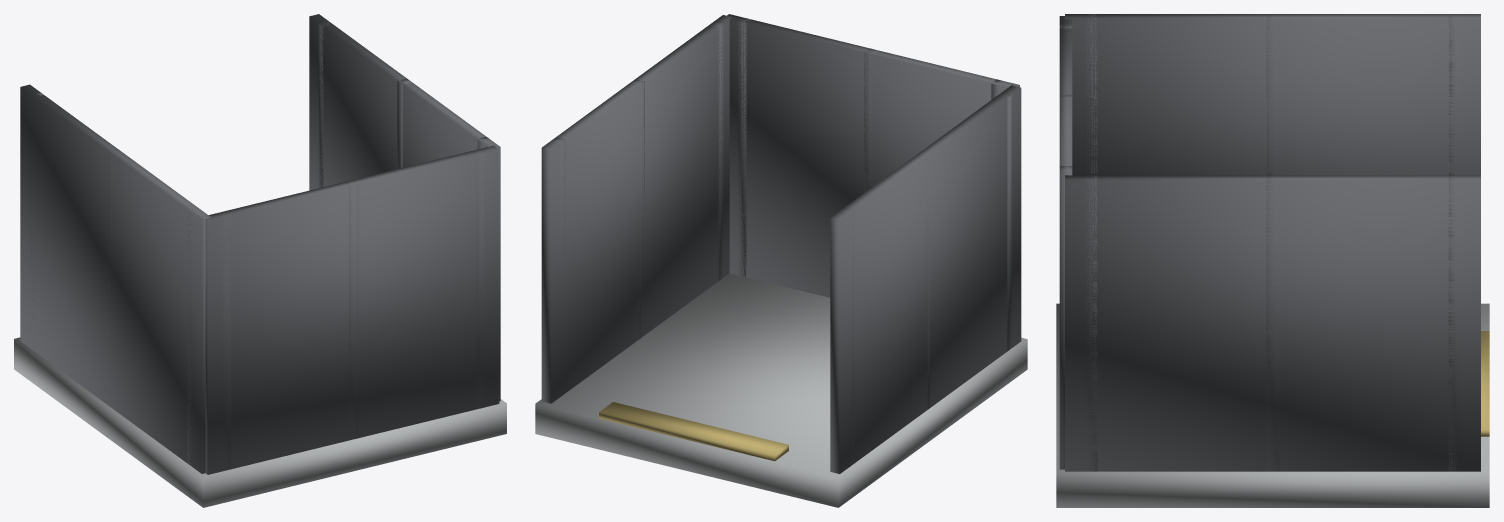
The model's file is floor_w125_d135_three.glb.
The picture shows the model from 3 angles, left to right: view 1: azimuth 30°, elevation 25°; view 2: azimuth 150°, elevation 25°; view 3: azimuth 270°, elevation 25°; orthographic projection. The views are drawn at different scales.
Visible parts, largest first — view 1: world; view 2: world; view 3: world.
Boxes of the visible parts, box(x1,y1,x2,y2) form: world: box(14, 14, 506, 507); world: box(535, 14, 1027, 507); world: box(1056, 14, 1489, 507).
Size of the model in its own units: 1.25 by 1.12 by 1.35.
